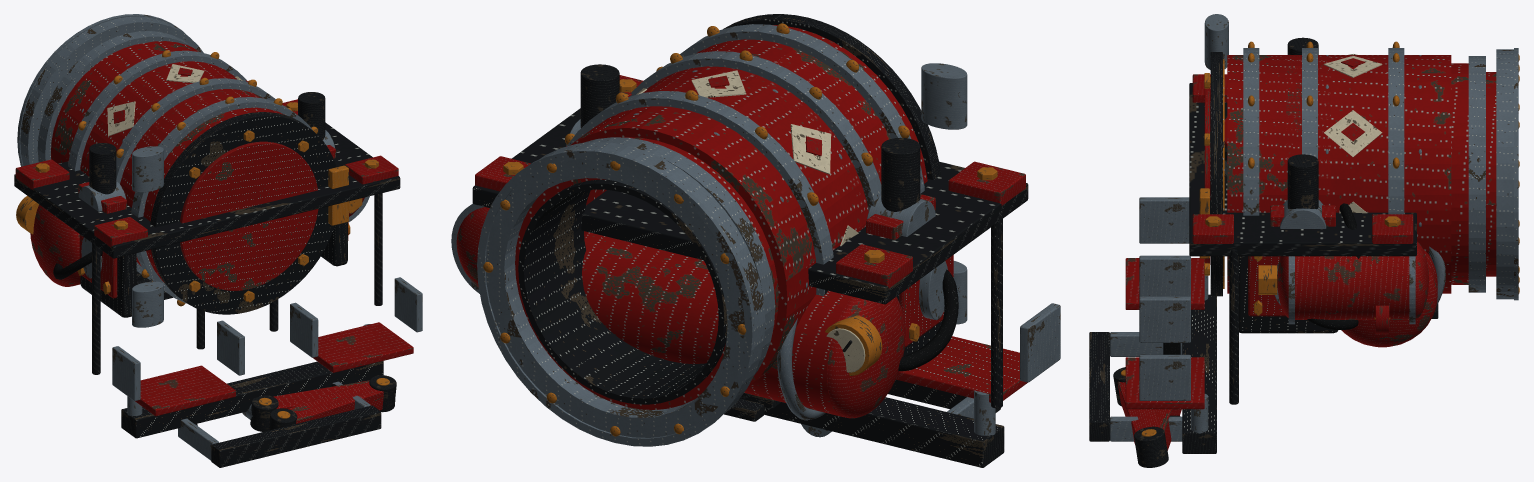
The model's file is EmpClawLauncher.glb.
3 renders of one model, left to right at view 1: azimuth 30°, elevation 25°; view 2: azimuth 150°, elevation 25°; view 3: azimuth 270°, elevation 25°, orthographic. The views are drawn at different scales.
Parts seen in each view (by area): view 1: EmpClawLauncher_EMP_blackened_iron, BreechHinge_EMP_crimson_enamel, EmpClawLauncher_EMP_crimson_enamel, BreechHinge_EMP_blackened_iron, BarrelRecoil_EMP_crimson_enamel, BarrelRecoil_EMP_brushed_steel, EmpClawLauncher_EMP_brushed_steel, BarrelExtension_EMP_brushed_steel, LoaderGripper_EMP_blackened_iron, BarrelMiddle_EMP_brushed_steel, BreechHinge_EMP_brushed_steel, CannonPitch_EMP_blackened_iron (+16 smaller); view 2: EmpClawLauncher_EMP_crimson_enamel, BarrelExtension_EMP_brushed_steel, BarrelRecoil_EMP_crimson_enamel, EmpClawLauncher_EMP_blackened_iron, BarrelExtension_EMP_blackened_iron, BarrelRecoil_EMP_brushed_steel, EmpClawLauncher_EMP_brushed_steel, TurretYaw_EMP_blackened_iron, BarrelMiddle_EMP_brushed_steel, BreechHinge_EMP_blackened_iron, BreechHinge_EMP_brushed_steel, CannonPitch_EMP_crimson_enamel (+13 smaller); view 3: BarrelRecoil_EMP_crimson_enamel, EmpClawLauncher_EMP_blackened_iron, EmpClawLauncher_EMP_brushed_steel, CannonPitch_EMP_crimson_enamel, EmpClawLauncher_EMP_crimson_enamel, BarrelRecoil_EMP_brushed_steel, BarrelExtension_EMP_brushed_steel, BarrelMiddle_EMP_brushed_steel, BarrelMiddle_EMP_crimson_enamel, BreechHinge_EMP_blackened_iron, LoaderGripper_EMP_blackened_iron, BarrelExtension_EMP_crimson_enamel (+17 smaller).
Boxes of the visible parts, box(x1,y1,x2,y2) form: EmpClawLauncher_EMP_blackened_iron: box(14, 122, 400, 438); BreechHinge_EMP_crimson_enamel: box(180, 141, 318, 290); EmpClawLauncher_EMP_crimson_enamel: box(15, 99, 413, 416); BreechHinge_EMP_blackened_iron: box(150, 112, 336, 314); BarrelRecoil_EMP_crimson_enamel: box(52, 41, 285, 282); BarrelRecoil_EMP_brushed_steel: box(68, 50, 312, 303); EmpClawLauncher_EMP_brushed_steel: box(112, 277, 422, 419); BarrelExtension_EMP_brushed_steel: box(17, 14, 203, 166); LoaderGripper_EMP_blackened_iron: box(211, 405, 381, 467); BarrelMiddle_EMP_brushed_steel: box(37, 31, 193, 162); BreechHinge_EMP_brushed_steel: box(132, 146, 163, 327); CannonPitch_EMP_blackened_iron: box(80, 222, 347, 317); EmpClawLauncher_EMP_crimson_enamel: box(475, 75, 1027, 418); BarrelExtension_EMP_brushed_steel: box(477, 142, 765, 446); BarrelRecoil_EMP_crimson_enamel: box(570, 25, 927, 387); EmpClawLauncher_EMP_blackened_iron: box(472, 108, 1028, 467); BarrelExtension_EMP_blackened_iron: box(518, 179, 727, 404); BarrelRecoil_EMP_brushed_steel: box(567, 24, 924, 296); EmpClawLauncher_EMP_brushed_steel: box(777, 303, 1060, 437); TurretYaw_EMP_blackened_iron: box(580, 64, 920, 211); BarrelMiddle_EMP_brushed_steel: box(583, 70, 842, 373); BreechHinge_EMP_blackened_iron: box(723, 14, 940, 179); BreechHinge_EMP_brushed_steel: box(921, 63, 967, 324); CannonPitch_EMP_crimson_enamel: box(456, 207, 953, 347); BarrelRecoil_EMP_crimson_enamel: box(1227, 55, 1451, 293); EmpClawLauncher_EMP_blackened_iron: box(1182, 83, 1416, 453); EmpClawLauncher_EMP_brushed_steel: box(1139, 160, 1445, 433); CannonPitch_EMP_crimson_enamel: box(1248, 241, 1428, 319); EmpClawLauncher_EMP_crimson_enamel: box(1125, 74, 1437, 409); BarrelRecoil_EMP_brushed_steel: box(1243, 48, 1404, 215); BarrelExtension_EMP_brushed_steel: box(1496, 48, 1518, 300); BarrelMiddle_EMP_brushed_steel: box(1325, 55, 1485, 292); BarrelMiddle_EMP_crimson_enamel: box(1451, 63, 1468, 284); BreechHinge_EMP_blackened_iron: box(1210, 52, 1222, 296); LoaderGripper_EMP_blackened_iron: box(1089, 332, 1109, 441); BarrelExtension_EMP_crimson_enamel: box(1486, 72, 1496, 276).
Bounding box in the file's own units: 1.16 × 1.12 × 1.25.
Materials: 6 (6 with a texture image).
